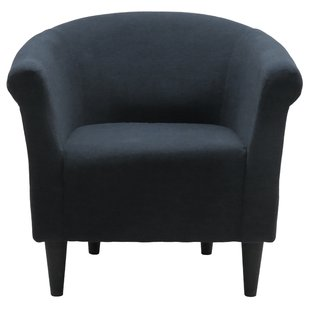chairs: (5, 10, 310, 300)
